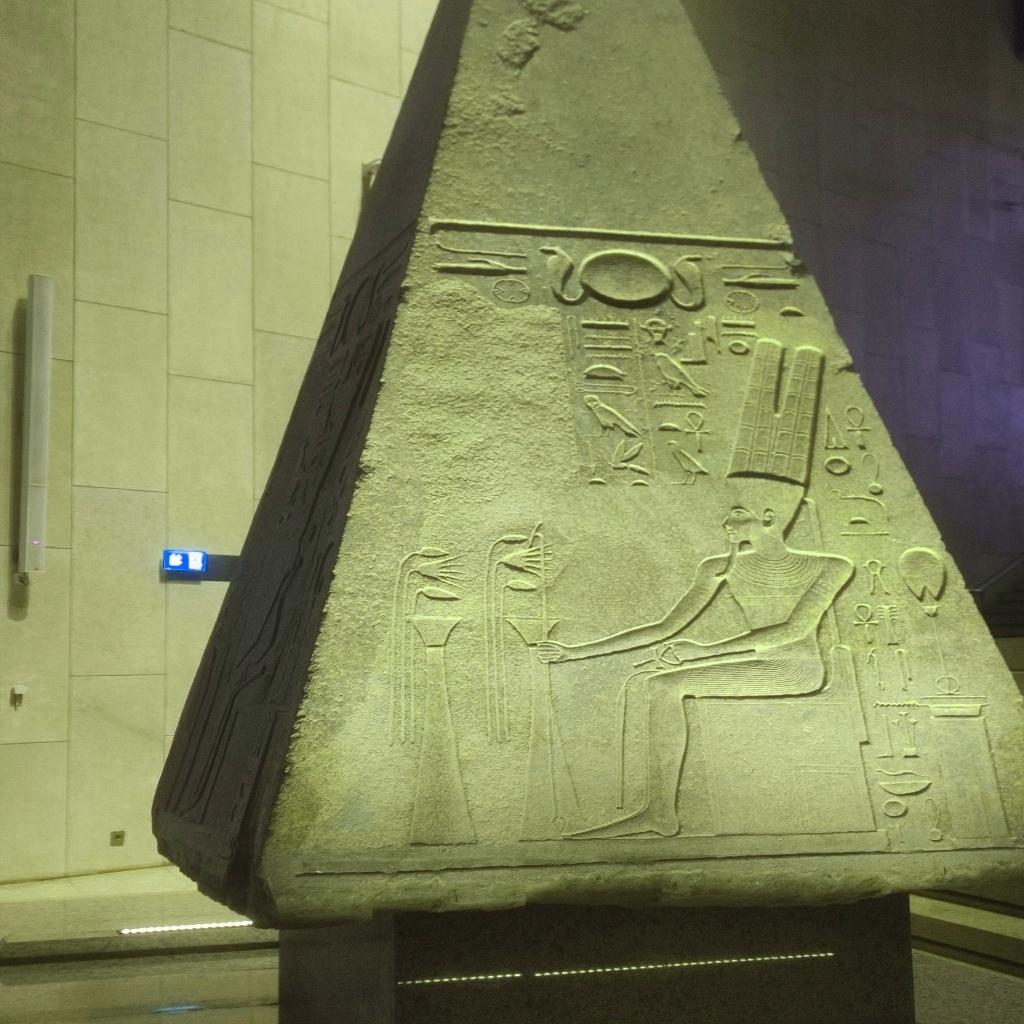Obelsik Tip of Hatshepsut: (147, 0, 1024, 914)
